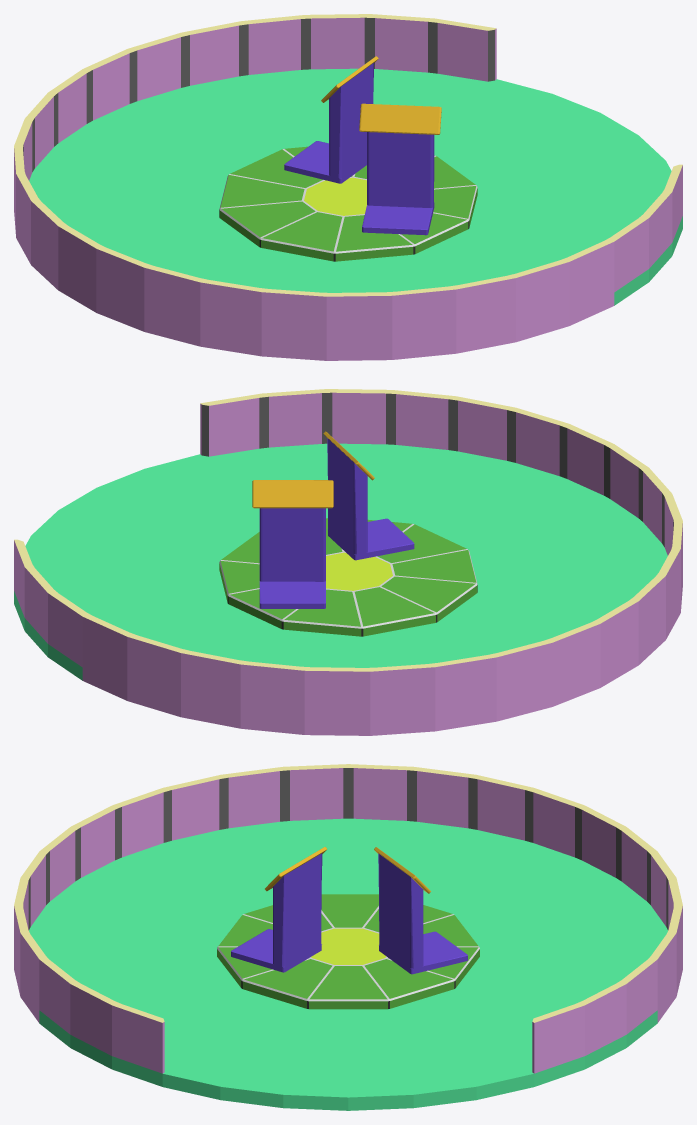
File: Competition PLatform.fbx
3 renders of one model, top to bottom at view 1: azimuth 30°, elevation 25°; view 2: azimuth 150°, elevation 25°; view 3: azimuth 270°, elevation 25°, orthographic.
Parts seen in each view (by area): view 1: Big Ring Platform, Small Platfatform, Course, Course 2; view 2: Big Ring Platform, Small Platfatform, Course 2, Course; view 3: Big Ring Platform, Small Platfatform, Course, Course 2.
Boxes of the visible parts, x1,y1,x2,y2 form: Big Ring Platform: [14, 14, 682, 360]; Small Platfatform: [219, 146, 477, 261]; Course: [359, 103, 441, 235]; Course 2: [284, 56, 378, 183]; Big Ring Platform: [14, 389, 682, 735]; Small Platfatform: [219, 518, 477, 636]; Course 2: [252, 480, 333, 608]; Course: [323, 431, 414, 560]; Big Ring Platform: [14, 764, 682, 1110]; Small Platfatform: [217, 894, 479, 1009]; Course: [231, 847, 327, 972]; Course 2: [374, 847, 467, 974].
Size of the model in its own units: 6591 by 1346 by 6591.
